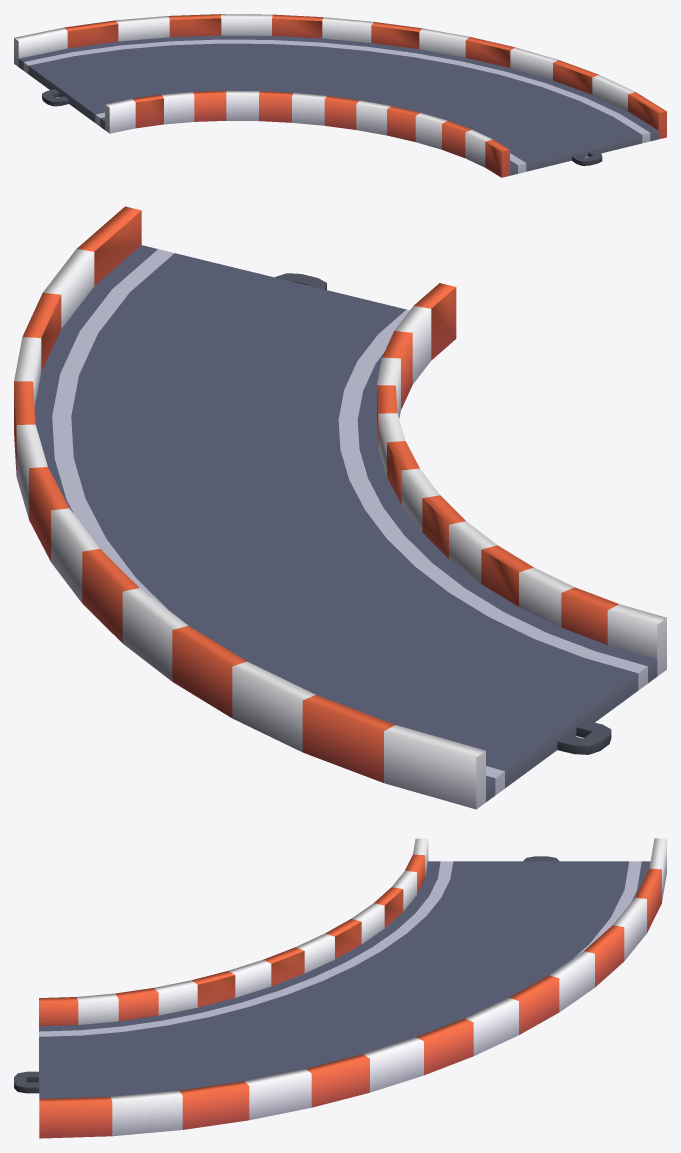
File: track-road-wide-corner-large.020_lev1.glb
3 renders of one model, top to bottom at view 1: azimuth 30°, elevation 25°; view 2: azimuth 150°, elevation 25°; view 3: azimuth 270°, elevation 25°, orthographic. The views are drawn at different scales.
Visible parts, largest first — view 1: track-road-wide-corner-large.020_lev1; view 2: track-road-wide-corner-large.020_lev1; view 3: track-road-wide-corner-large.020_lev1.
Part boxes in pixels (left/top/right/bottom): track-road-wide-corner-large.020_lev1: left=14, top=14, right=666, bottom=177; track-road-wide-corner-large.020_lev1: left=14, top=206, right=666, bottom=809; track-road-wide-corner-large.020_lev1: left=14, top=838, right=666, bottom=1138.
Size of the model in its own units: 5.21 by 0.3 by 5.2.
1 material, 1 textured.
